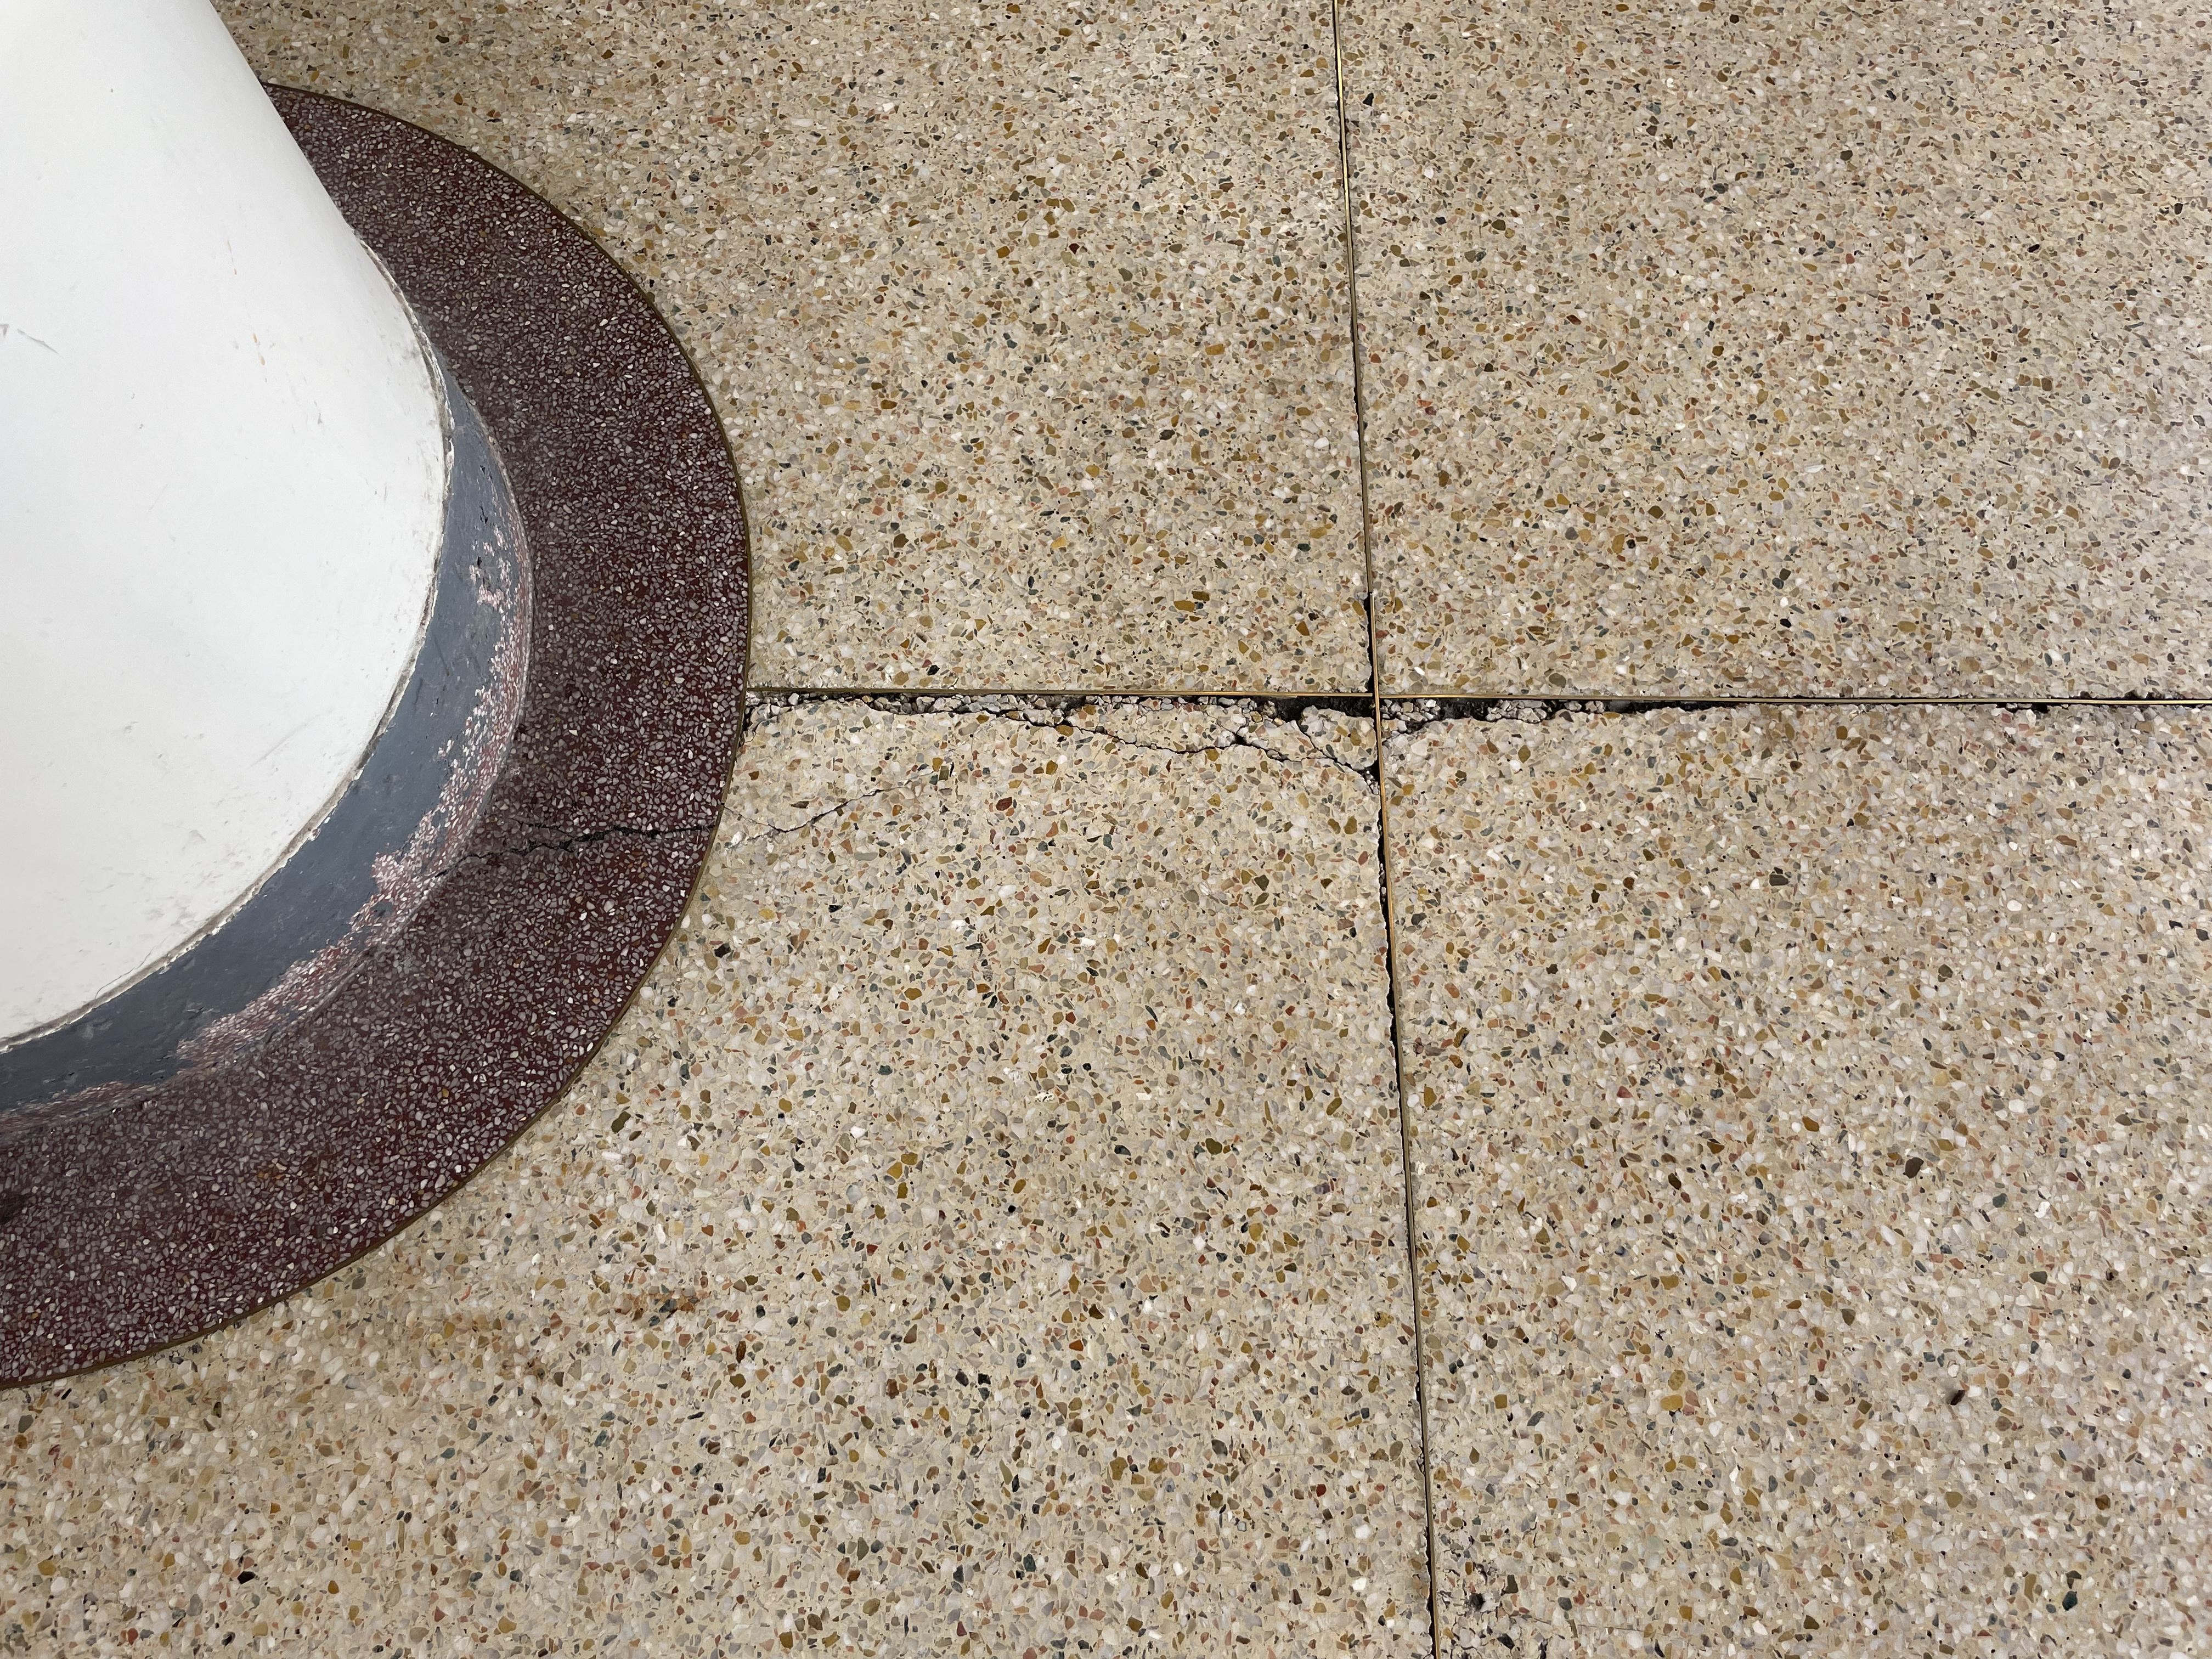Crack: (432, 769, 937, 877)
Spalling: (742, 694, 1378, 795), (1379, 699, 1742, 746)
